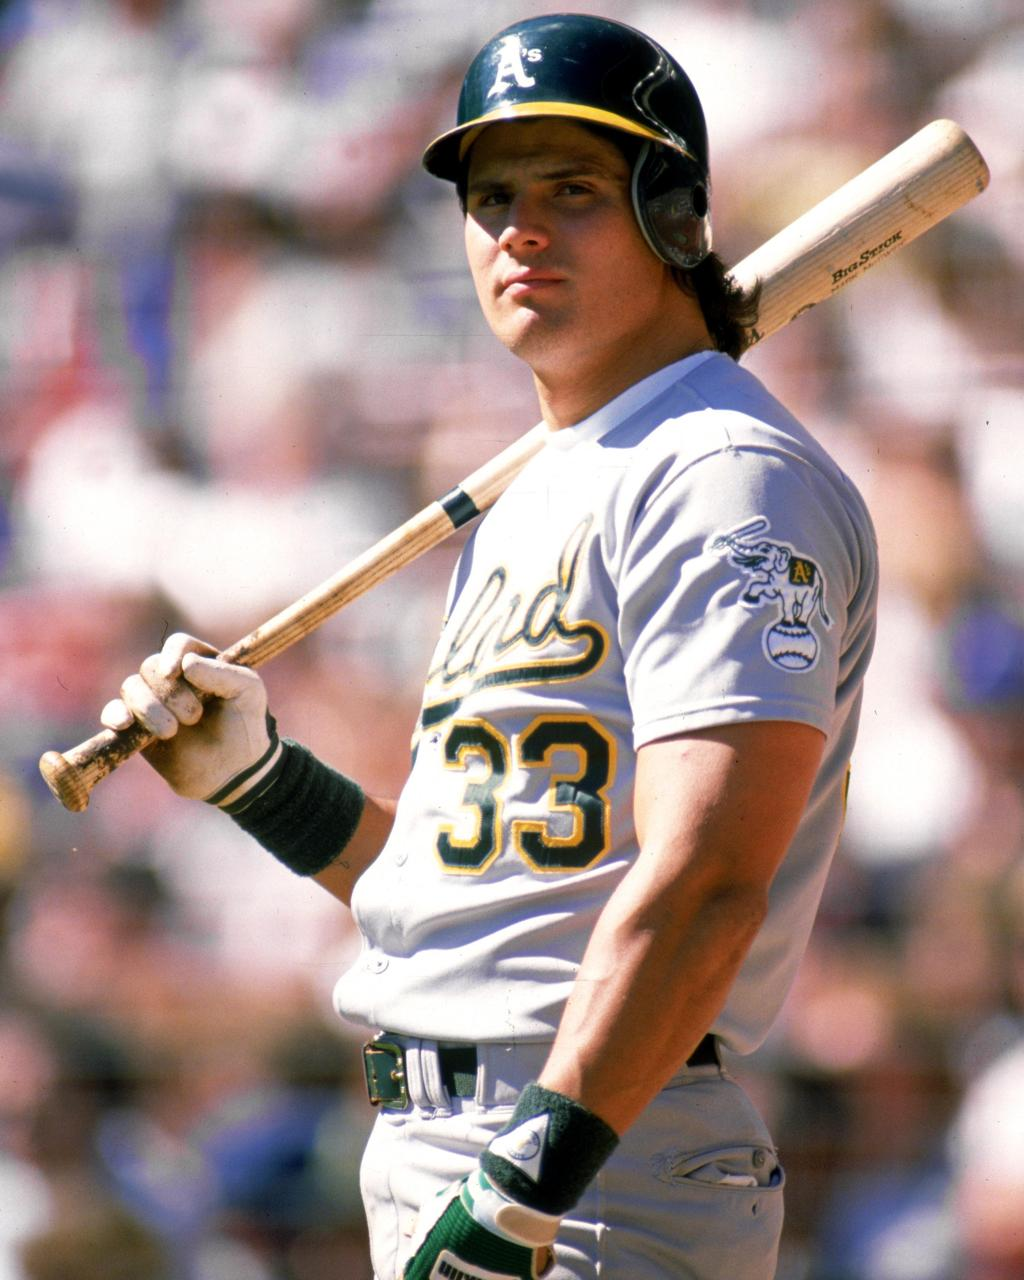face: (460, 110, 640, 367)
